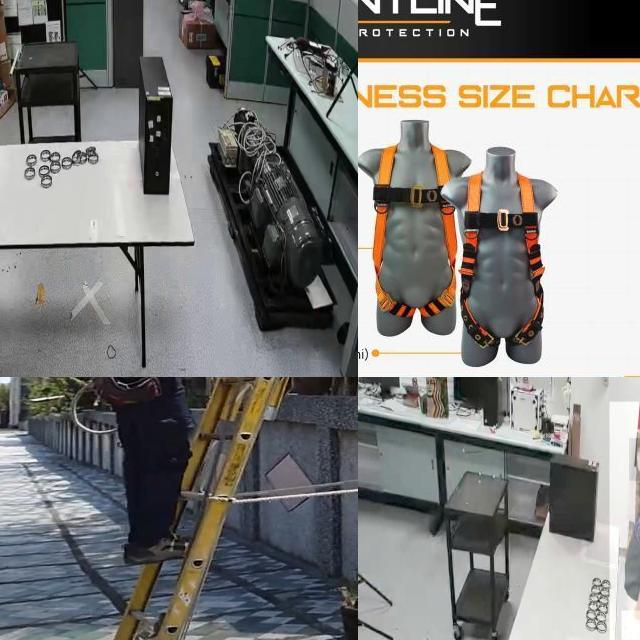Harness: (461, 173, 545, 362), (373, 145, 457, 318), (81, 377, 199, 412), (437, 280, 454, 306)
face_mask: (628, 438, 640, 480)
hand_glove: (621, 610, 640, 640)
person: (609, 401, 640, 640)
